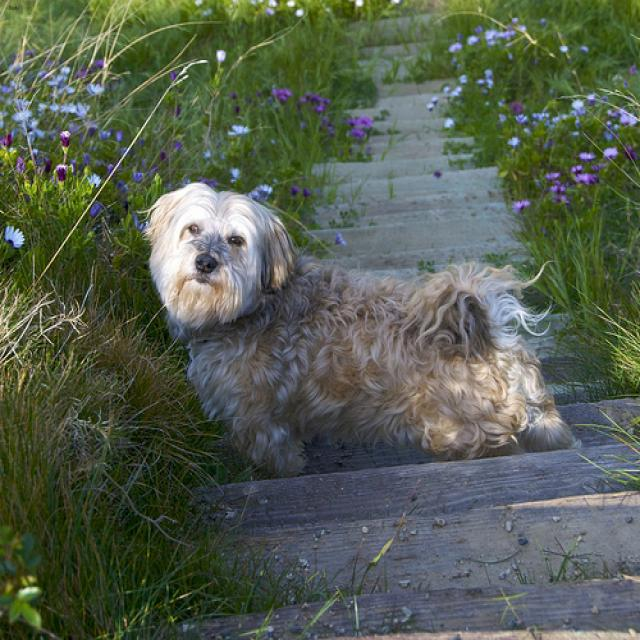dog: (146, 181, 288, 318)
